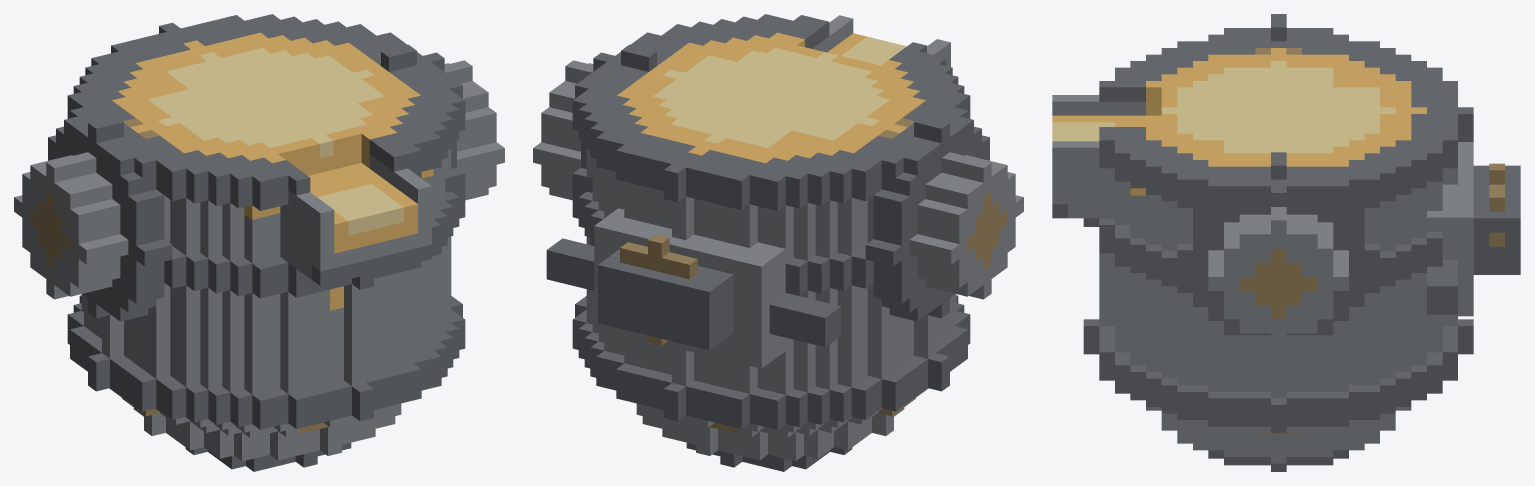
Rendered from crucible.glb.
3 renders of one model, left to right at view 1: azimuth 30°, elevation 25°; view 2: azimuth 150°, elevation 25°; view 3: azimuth 270°, elevation 25°, orthographic. The views are drawn at different scales.
Bounding box in the file's own units: 30 × 24 × 30.
